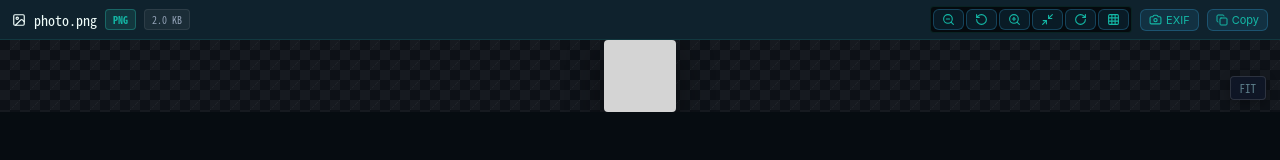
Test: ImagePreview component › handles zoom in, zoom out, actual size, and rotation actions
#  Zoom In
Click the button titled "Zoom In" at [1015, 20], box [999,9,1030,30]
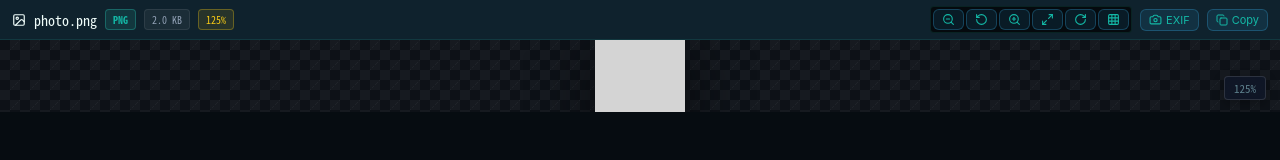
Expected: the text "125%" is shown, [198,9,234,30]
Click the button titled "Rotate" at [1081, 20], box [1065,9,1096,30]
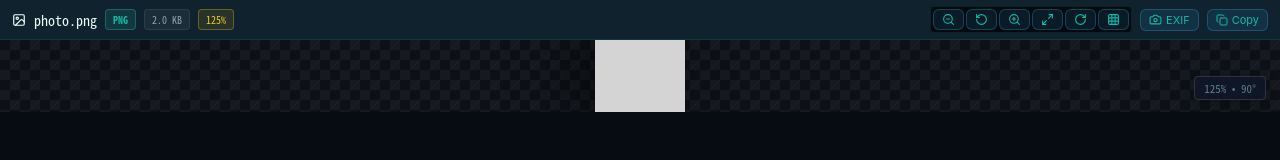
Expected: the text "• 90°" is shown, [1226,80,1256,96]
# Reset Zoom
Click the button titled "Actual Size" at [982, 20], box [966,9,997,30]
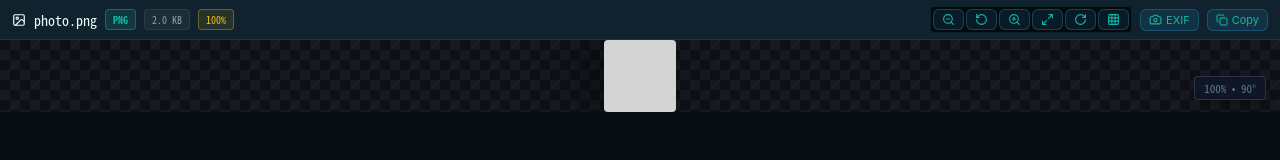
Expected: the text "100%" next to "2.0 KB" is shown, [198,9,234,30]
# Zoom Out
Click the button titled "Zoom Out" at [949, 20], box [933,9,964,30]
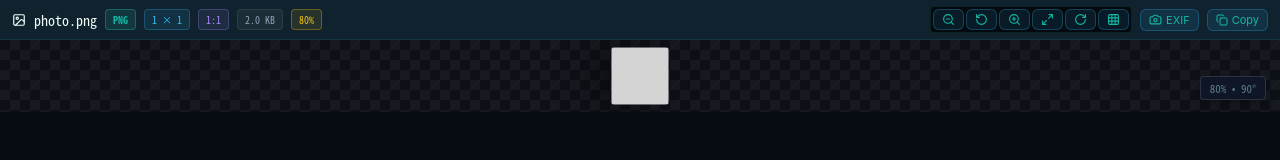
Expected: the text "80%" next to "2.0 KB" is shown, [291,9,322,30]
